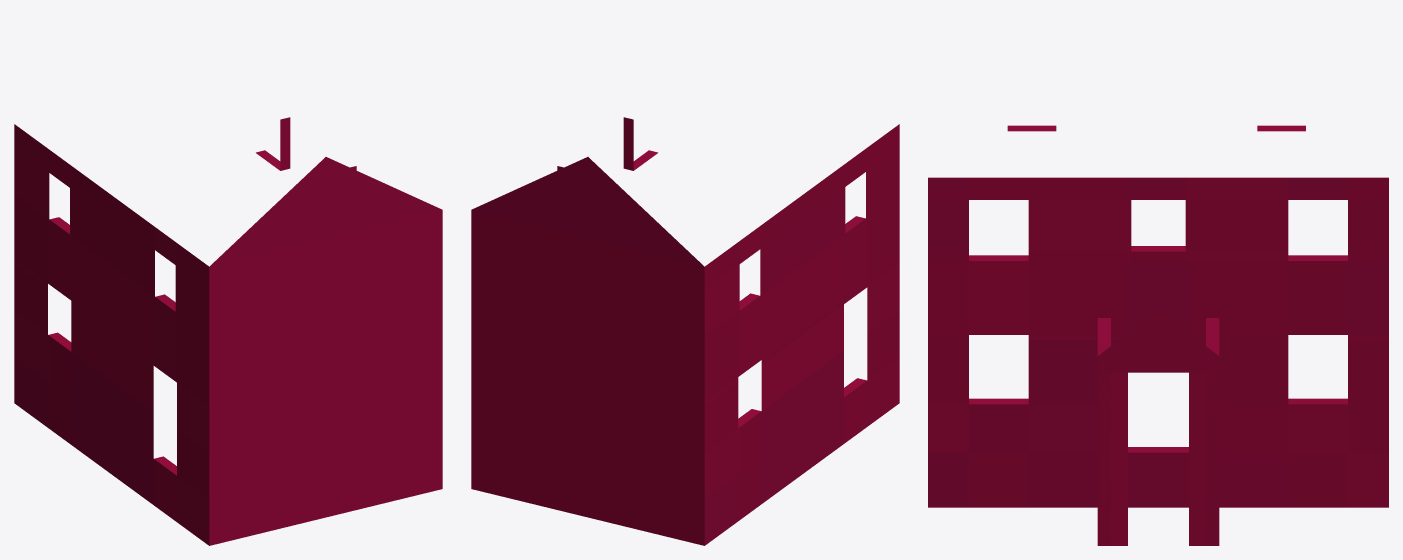
The model's file is SM_Bld_133_Masonry.glb.
3 renders of one model, left to right at view 1: azimuth 30°, elevation 25°; view 2: azimuth 150°, elevation 25°; view 3: azimuth 270°, elevation 25°, orthographic. The views are drawn at different scales.
Parts seen in each view (by area): view 1: SM_Bld_133_Masonry; view 2: SM_Bld_133_Masonry; view 3: SM_Bld_133_Masonry.
Boxes of the visible parts, box(x1,y1,x2,y2) form: SM_Bld_133_Masonry: box(14, 117, 442, 545); SM_Bld_133_Masonry: box(471, 117, 899, 545); SM_Bld_133_Masonry: box(928, 125, 1388, 545).
Bounding box in the file's own units: 6.73 × 7.75 × 7.59.
